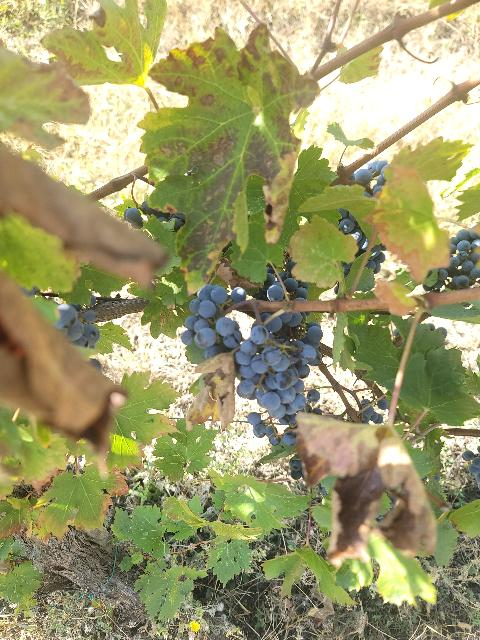grapes: (236, 324, 322, 425), (181, 284, 241, 359)
